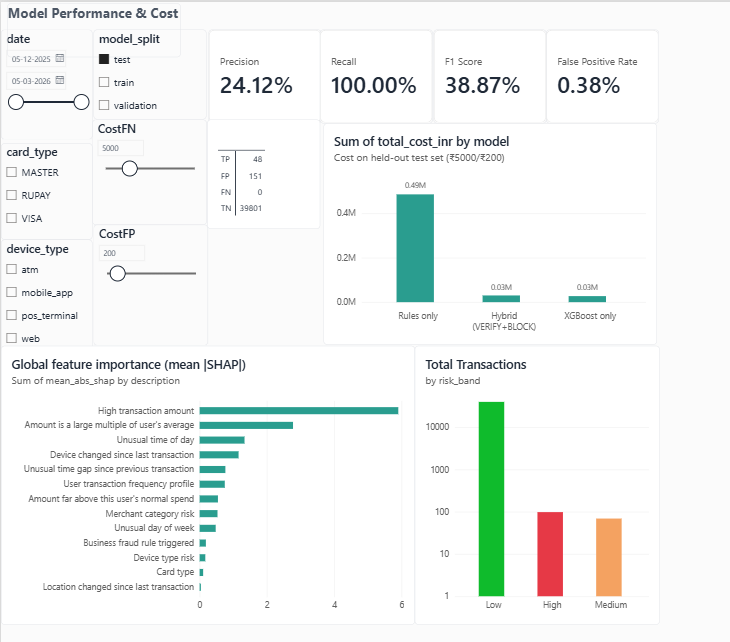

The dashboard page shown, as its layout file describes it:
{"tool":"powerbi","page":{"name":"Model Performance and Cost","canvas":[1920,1080],"ordinal":2},"visuals":[{"type":"slicer","fields":{"Values":["CostFN.CostFN"]},"box":[10,0,280,280],"z":0},{"type":"slicer","fields":{"Values":["CostFP.CostFP"]},"box":[10,290,280,280],"z":1000}]}

Visuals, with their boxes on the page's 1920x1080 design canvas (x1, y1, x2, y2). These are canvas units, not pixel positions in the 730x642 screenshot, which may show the page scaled, cropped or inside an application window:
slicer - CostFN.CostFN: select_region(10, 0, 290, 280)
slicer - CostFP.CostFP: select_region(10, 290, 290, 570)
